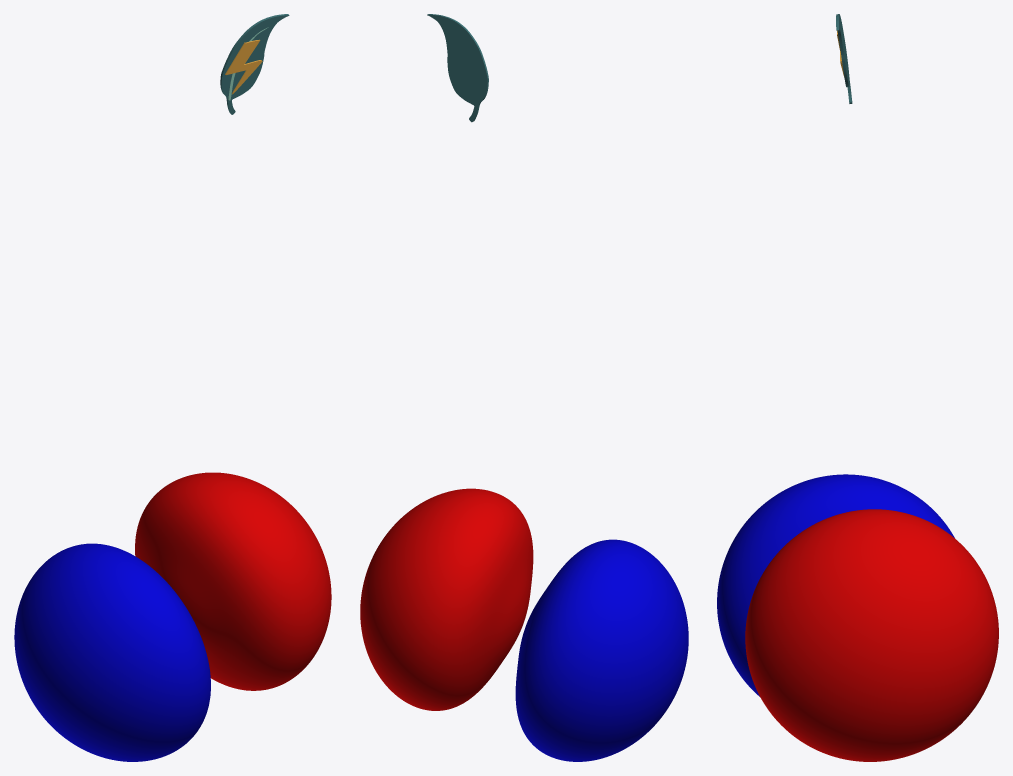
Rendered from h2_sim_ae.glb.
The picture shows the model from 3 angles, left to right: view 1: azimuth 30°, elevation 25°; view 2: azimuth 150°, elevation 25°; view 3: azimuth 270°, elevation 25°; orthographic projection. The views are drawn at different scales.
Parts seen in each view (by area): view 1: h2_sim_ae, path182, path186; view 2: h2_sim_ae, path182; view 3: h2_sim_ae, path182.
Boxes of the visible parts, left/top/right/bottom form: h2_sim_ae: left=14, top=472, right=331, bottom=761; path182: left=220, top=14, right=289, bottom=114; path186: left=225, top=39, right=262, bottom=94; h2_sim_ae: left=360, top=488, right=688, bottom=761; path182: left=427, top=14, right=488, bottom=122; h2_sim_ae: left=717, top=474, right=998, bottom=761; path182: left=836, top=14, right=852, bottom=103.
Bounding box in the file's own units: 2.66 × 6.18 × 2.03.
